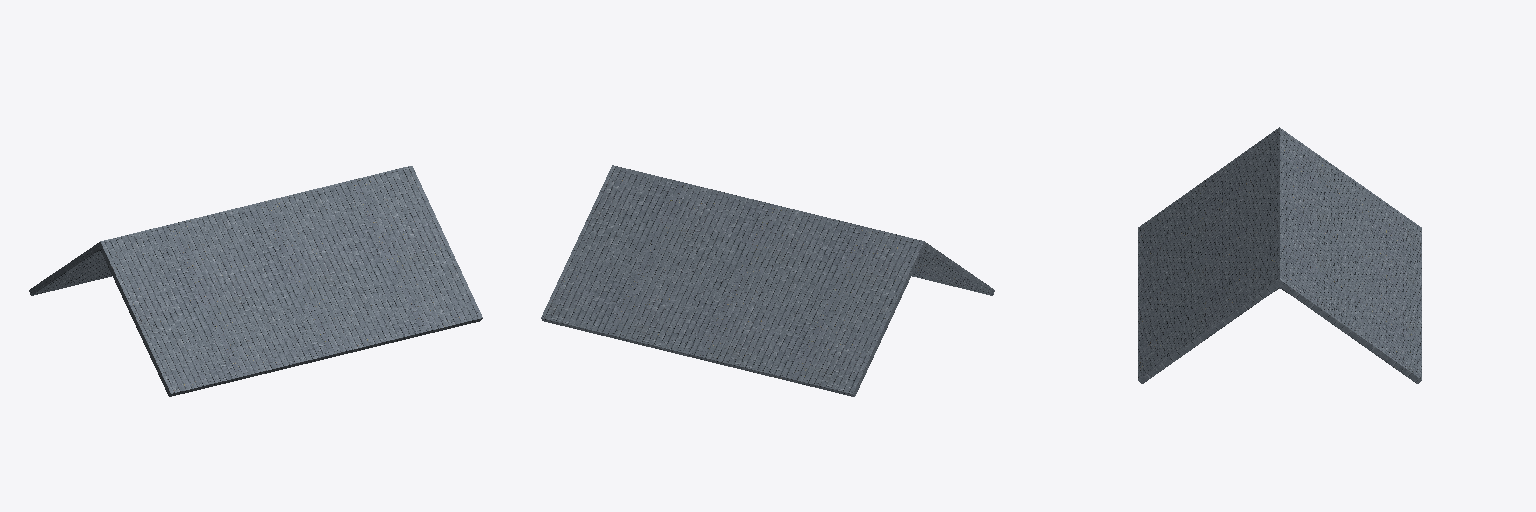
3 views of the same model, side by side, from view 1: azimuth 30°, elevation 25°; view 2: azimuth 150°, elevation 25°; view 3: azimuth 270°, elevation 25° (orthographic).
Visible parts, largest first — view 1: RoofTop; view 2: RoofTop; view 3: RoofTop.
Part boxes in pixels (x1,y1,x2,y2): RoofTop: (29, 166, 482, 396); RoofTop: (541, 165, 994, 396); RoofTop: (1138, 127, 1421, 383).
Bounding box in the file's own units: 12.19 × 3.94 × 9.62.
Materials: 1 (1 with a texture image).